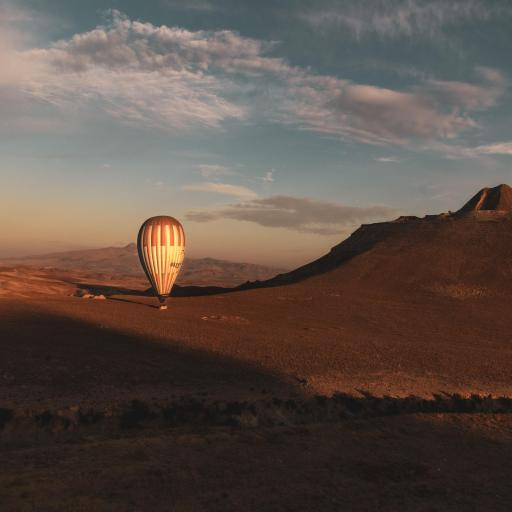hot air ballon: (135, 209, 187, 317)
